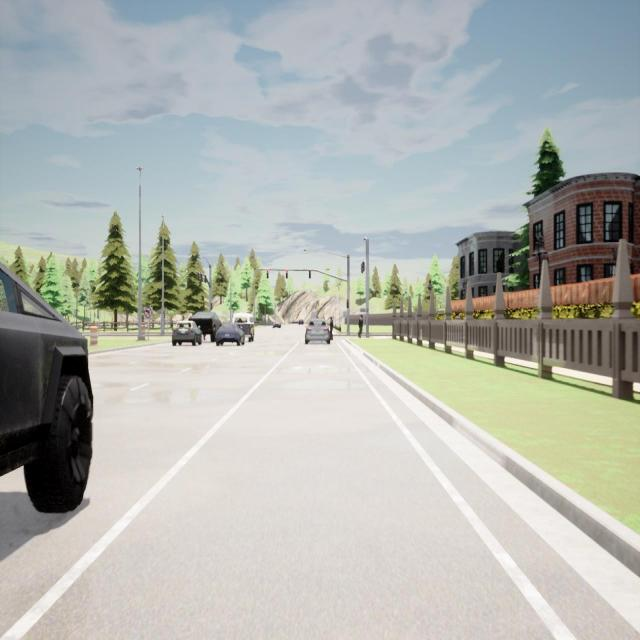Pedestrian: (328, 315, 334, 339), (358, 314, 363, 338)
Traffic_Signs: (144, 308, 152, 318), (158, 310, 168, 314), (360, 308, 368, 312)
Vehicle: (0, 261, 94, 514), (188, 312, 222, 342), (172, 321, 202, 346), (216, 322, 245, 347), (232, 314, 255, 342), (305, 319, 330, 344), (273, 321, 281, 329), (298, 319, 304, 326)
traffic_light: (346, 299, 349, 308), (361, 263, 363, 274), (362, 262, 364, 271), (266, 269, 268, 278), (286, 269, 288, 278), (309, 270, 311, 279), (204, 275, 206, 283), (200, 274, 202, 281), (198, 273, 200, 279), (211, 302, 212, 310)
